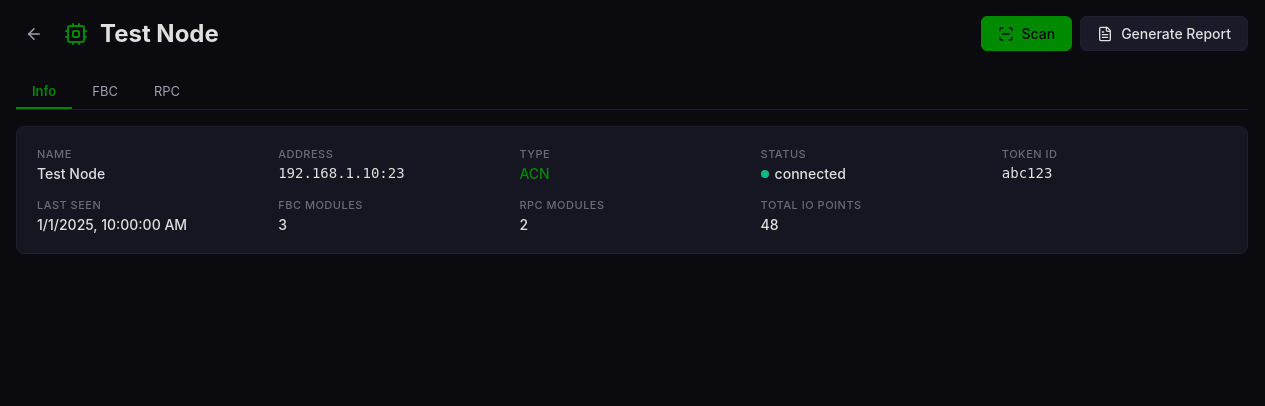
Test: NodeDetail › fetches and displays FBC data when FBC tab is clicked
Expected: the heading "Test Node" is shown, [100,19,219,48]
Click the button "FBC": (105, 92) [76,75,134,109]
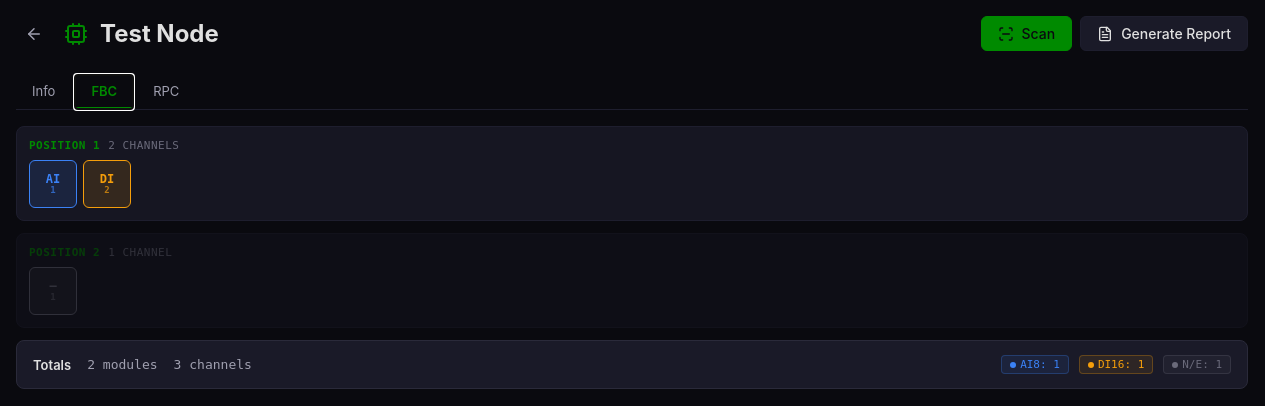
Expected: the text "Position 1" is shown, [29,139,180,152]
